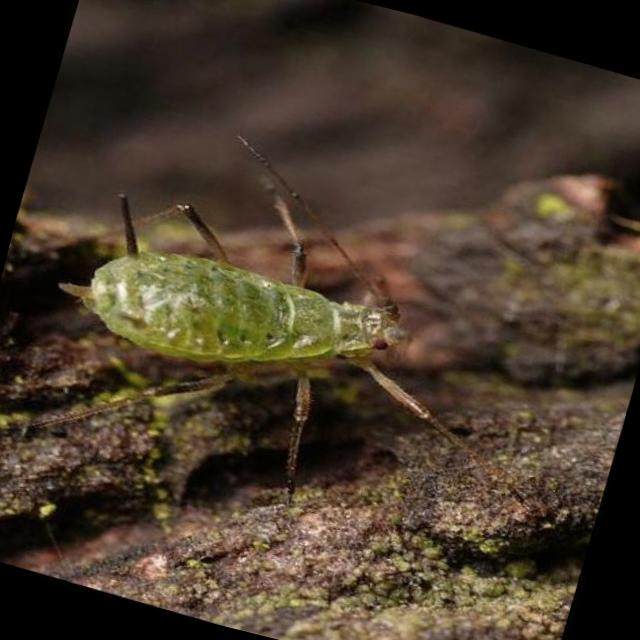aphid: (19, 114, 594, 568)
